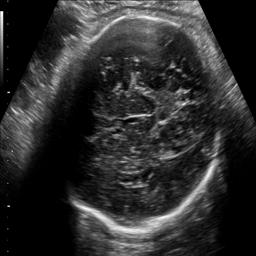normal: (63, 16, 223, 238)
